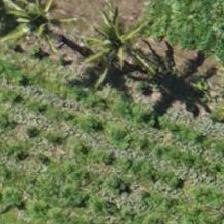coconut_tree: (68, 0, 158, 88), (0, 0, 76, 72)
